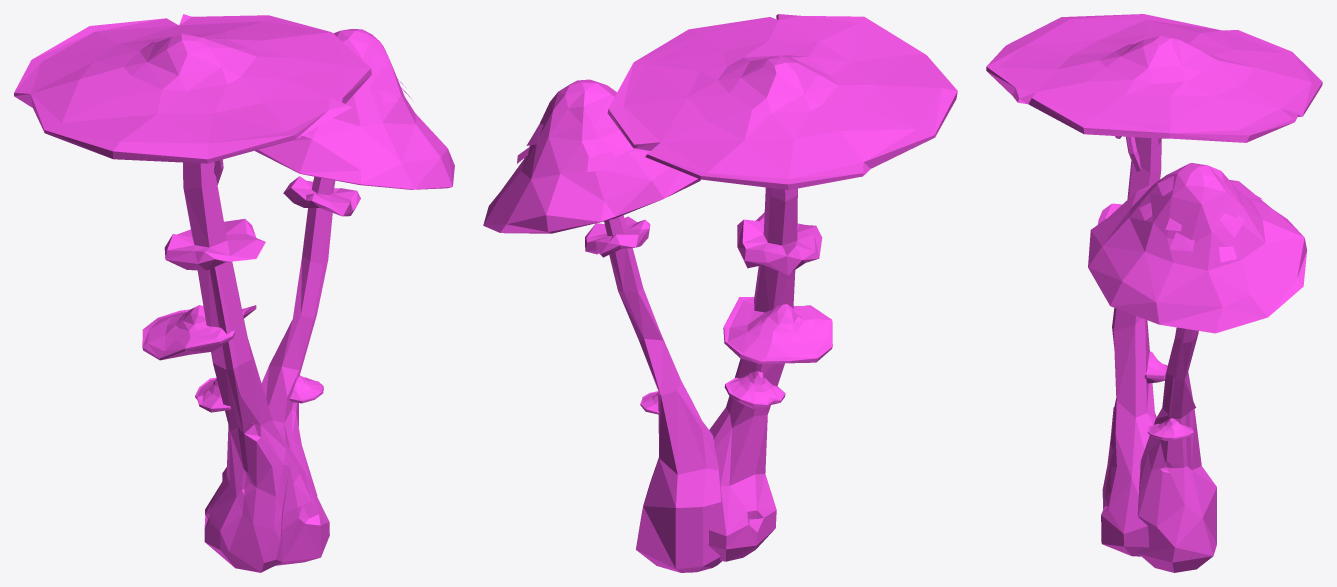
Rendered from SM_Mushroom_Slim_Big_A_Fantasy.fbx.
3 views of the same model, side by side, from view 1: azimuth 30°, elevation 25°; view 2: azimuth 150°, elevation 25°; view 3: azimuth 270°, elevation 25° (orthographic). The views are drawn at different scales.
Visible parts, largest first — view 1: SM_Mushroom_Slim_Big_A_Fantasy; view 2: SM_Mushroom_Slim_Big_A_Fantasy; view 3: SM_Mushroom_Slim_Big_A_Fantasy.
Boxes of the visible parts, x1,y1,x2,y2 form: SM_Mushroom_Slim_Big_A_Fantasy: [14, 14, 454, 572]; SM_Mushroom_Slim_Big_A_Fantasy: [483, 14, 957, 572]; SM_Mushroom_Slim_Big_A_Fantasy: [986, 14, 1322, 572].
Bounding box in the file's own units: 5.16 × 6.25 × 3.94.
